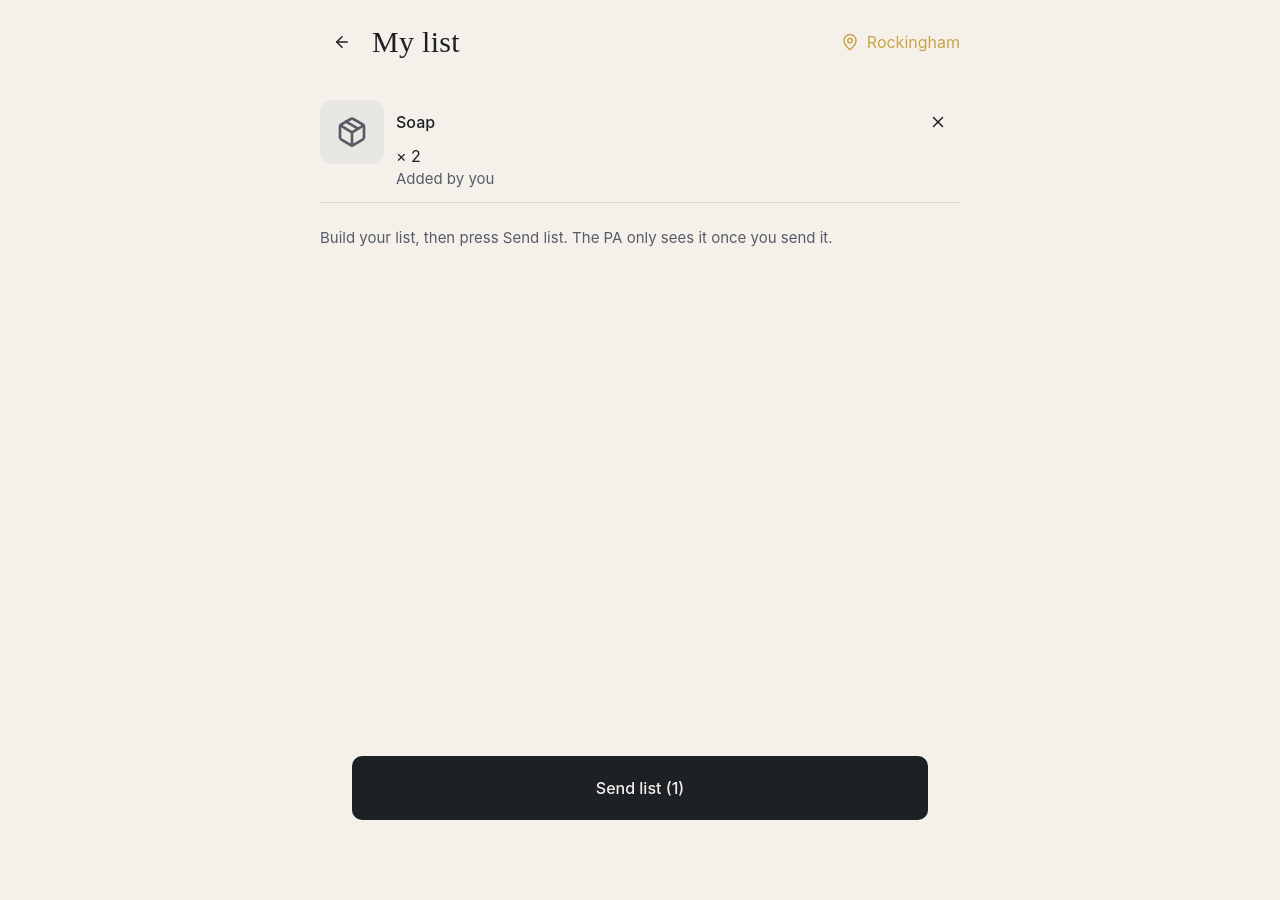
requester screens › failed send keeps list and offers retry
Click the button "Send list (1)": (640, 788) [352,756,928,820]
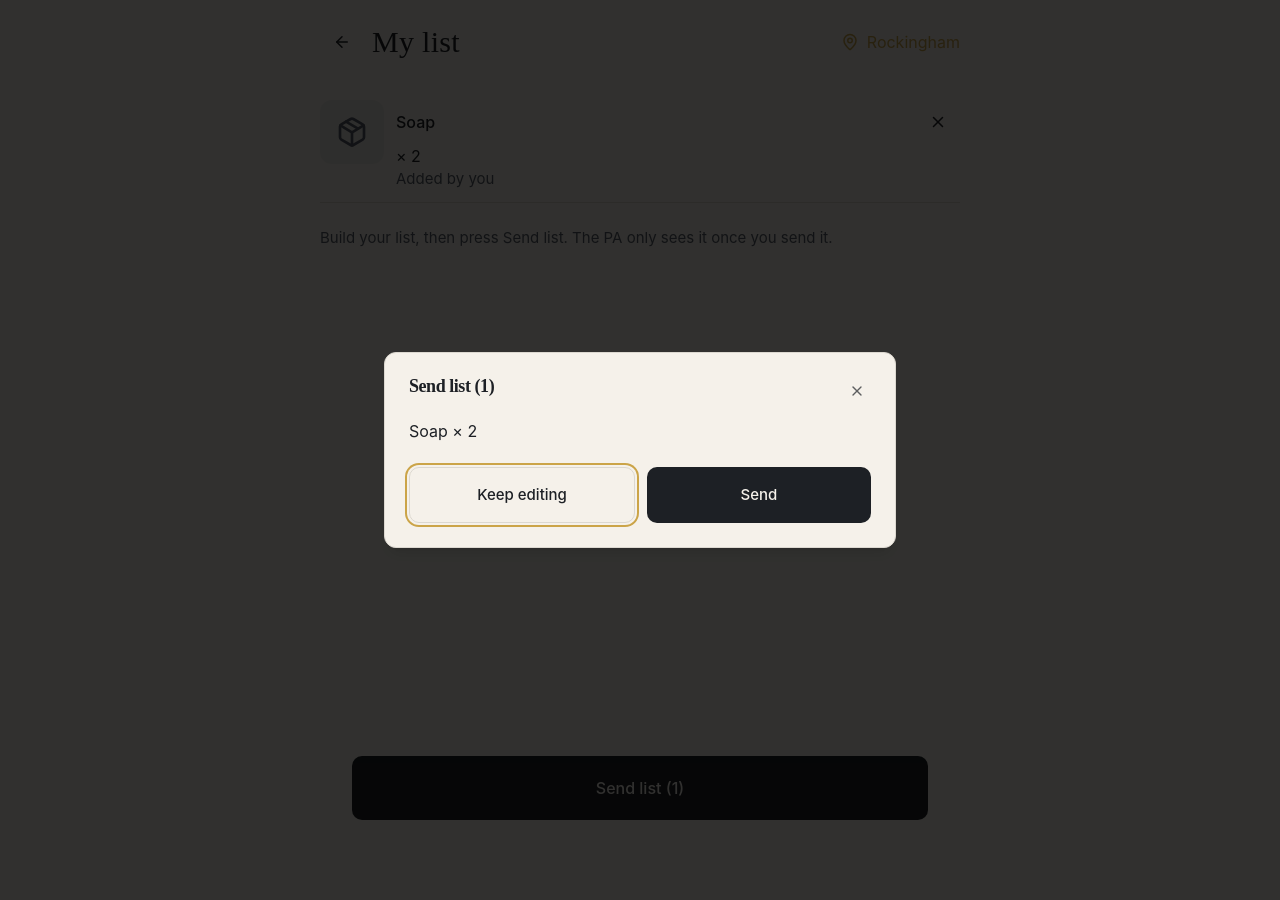
Click the button "Send": (759, 495) [647,467,871,523]
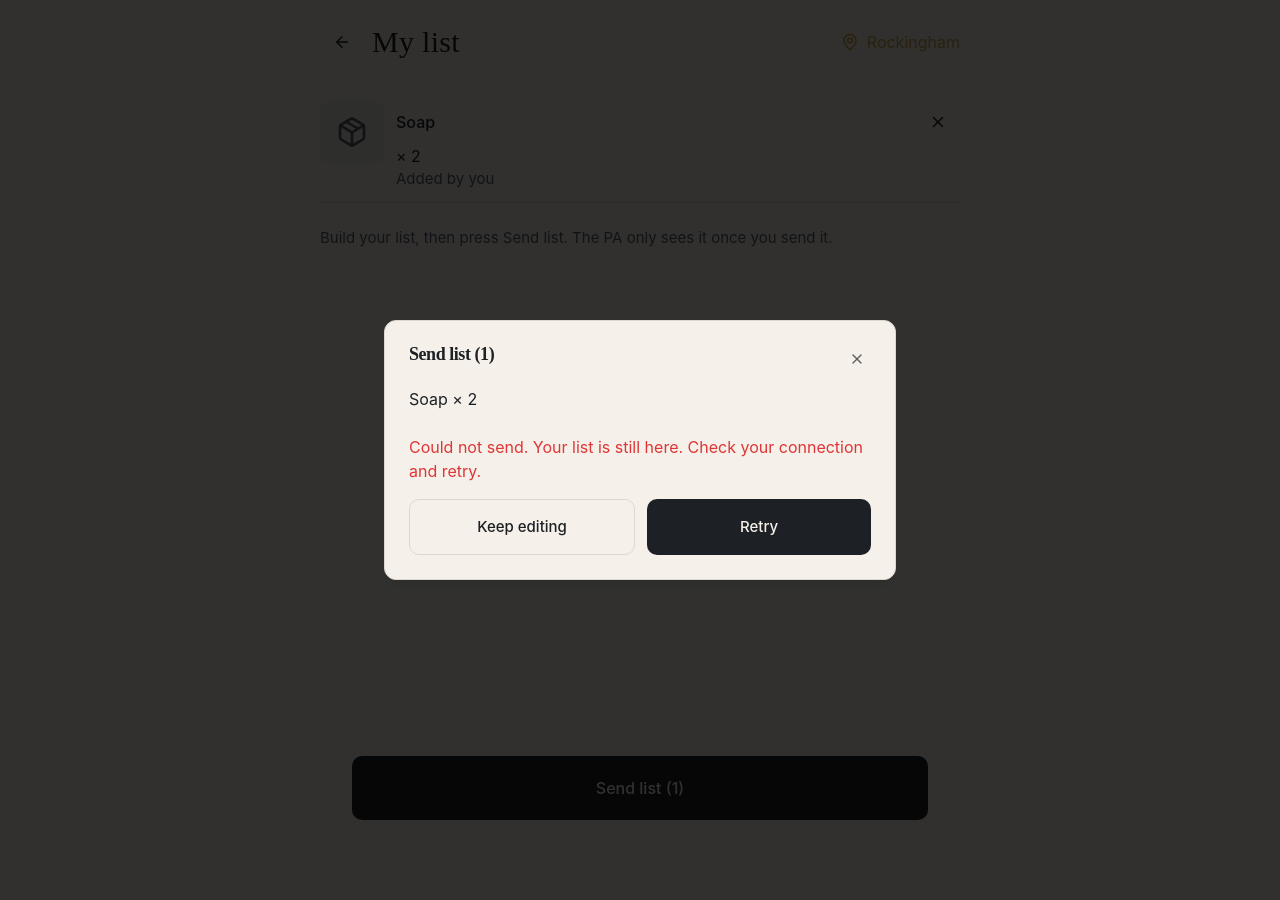
Expected: the text "Soap × 2" is shown, [409,389,477,409]
Expected: the message "Could not send. Your list is still here. Check your connection and retry." is shown, [409,435,871,483]
Expected: the button "Retry" is shown, [647,499,871,555]
